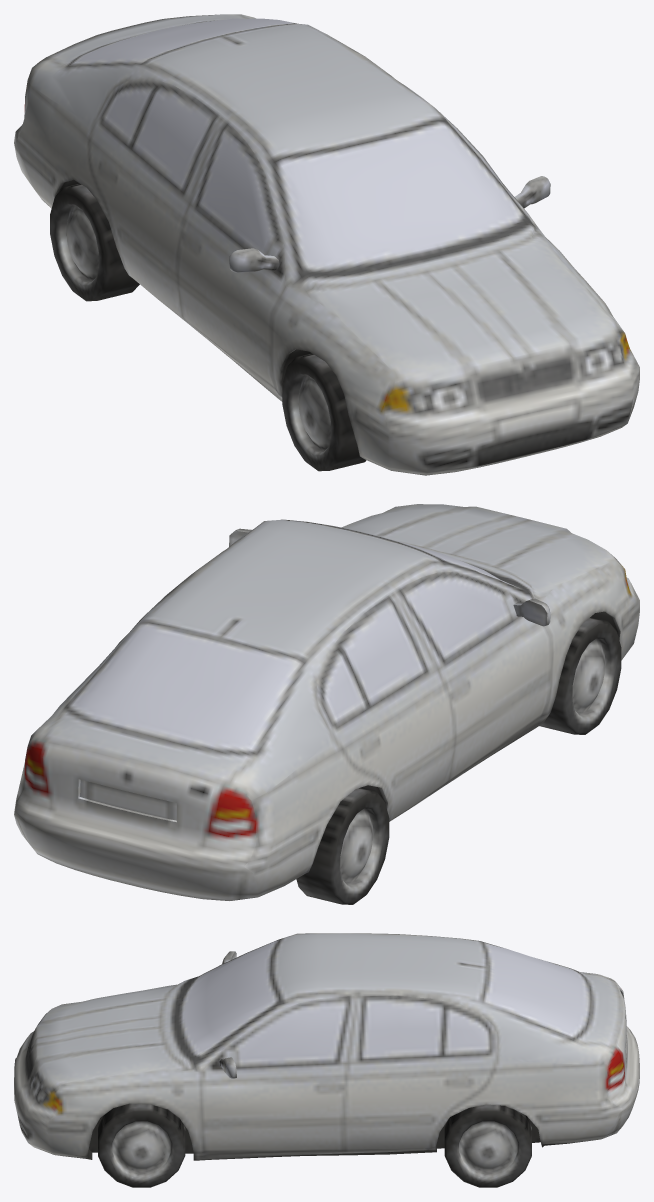
Rendered from car-octavia.glb.
3 views of the same model, one above another, from view 1: azimuth 30°, elevation 25°; view 2: azimuth 150°, elevation 25°; view 3: azimuth 270°, elevation 25° (orthographic). The views are drawn at different scales.
Parts seen in each view (by area): view 1: Cylinder_Paint_0, Cube.001__0; view 2: Cylinder_Paint_0, Cube.001__0; view 3: Cylinder_Paint_0, Cube.001__0.
Part boxes in pixels (x1=…): Cylinder_Paint_0: x1=14, y1=14, x2=639, y2=475; Cube.001__0: x1=229, y1=176, x2=550, y2=272; Cylinder_Paint_0: x1=14, y1=504, x2=639, y2=904; Cube.001__0: x1=229, y1=528, x2=550, y2=626; Cylinder_Paint_0: x1=14, y1=933, x2=639, y2=1187; Cube.001__0: x1=219, y1=951, x2=236, y2=1078.
Bounding box in the file's own units: 1.34 × 0.9539 × 3.04.
Materials: 1 (1 with a texture image).
